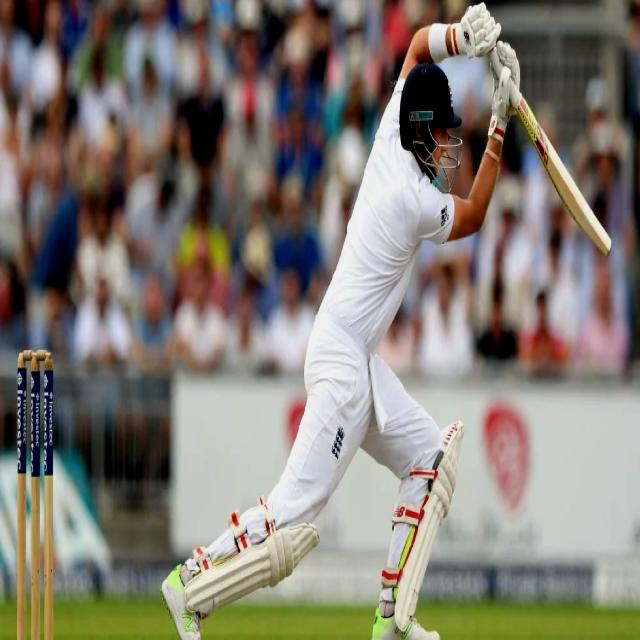toe: (596, 226, 615, 266)
